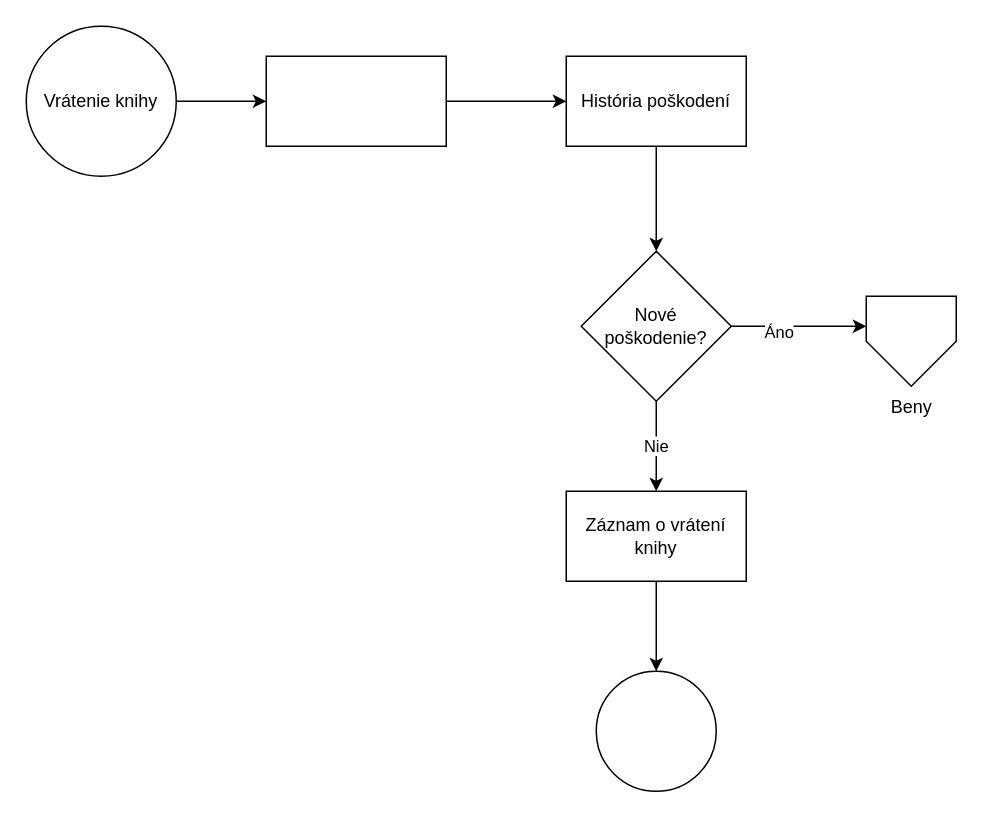
Some shapes in this 983 by 818 pixel diagram are drawn without their labels. Here are the shapes that lost their labels. From the top down, the centre of each, then its label:
At point (355, 100): "Vyhľadanie knihy v databáze".
At point (655, 730): "End".
